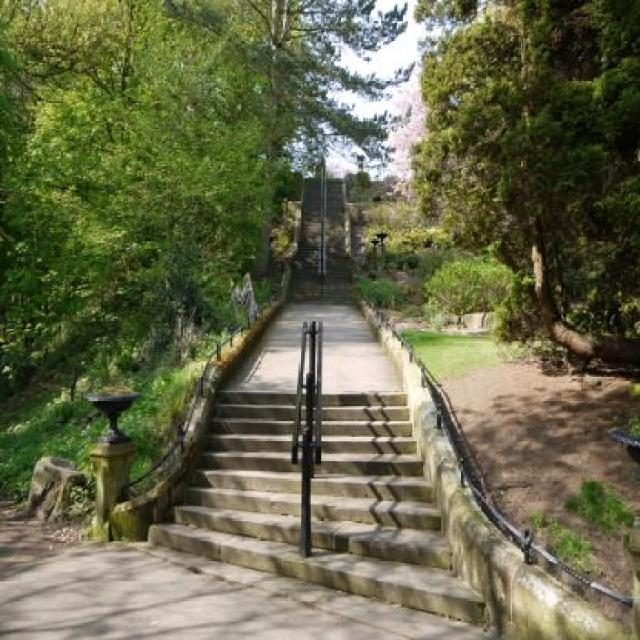stair: (146, 389, 489, 628), (283, 175, 360, 308)
